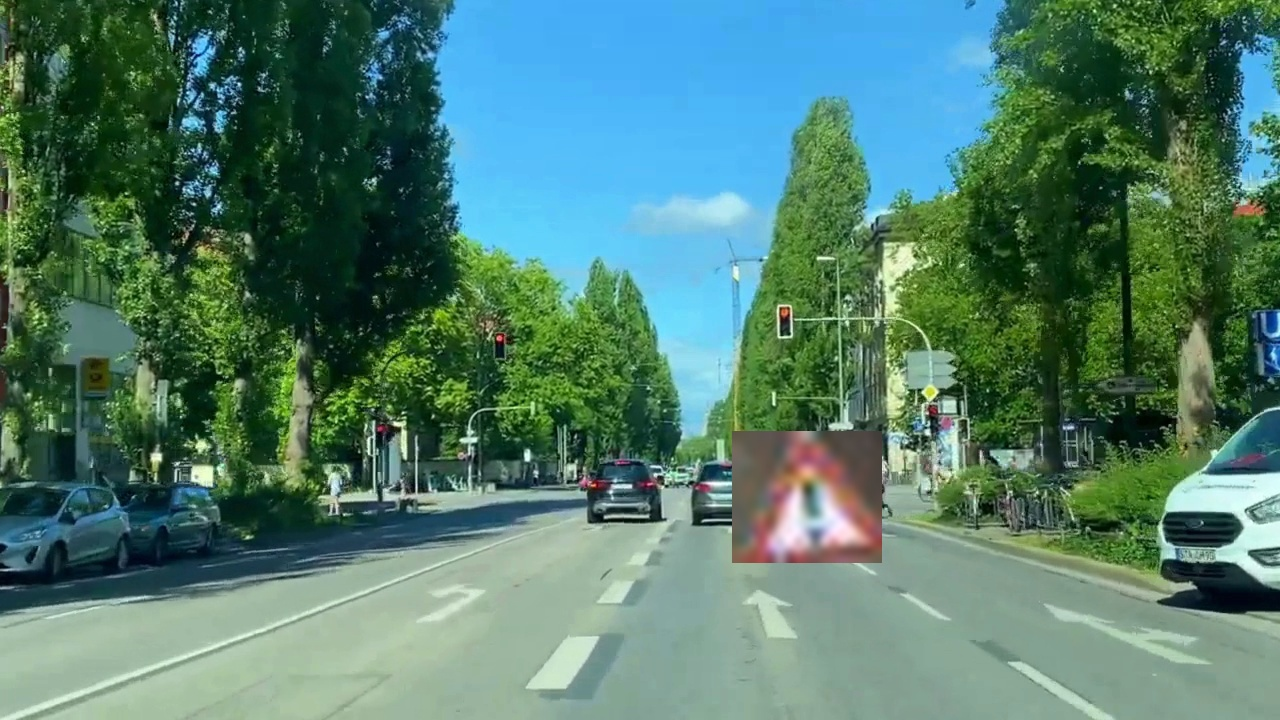Caution: (732, 431, 882, 563)
